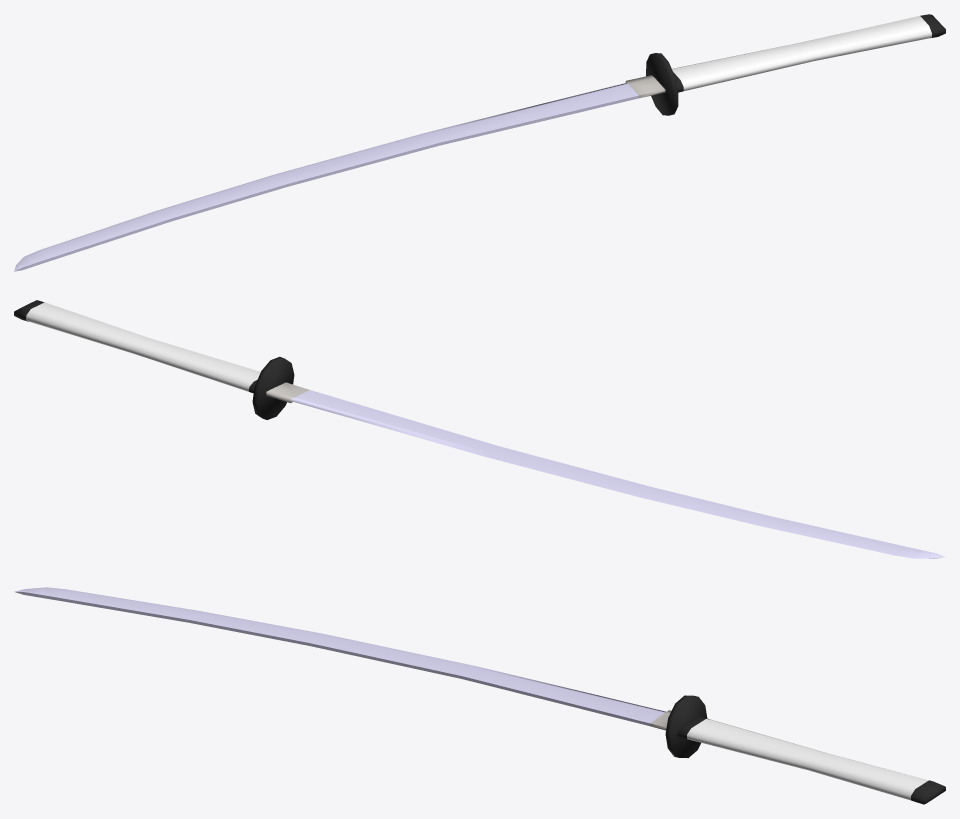
The model's file is katana.glb.
3 views of the same model, one above another, from view 1: azimuth 30°, elevation 25°; view 2: azimuth 150°, elevation 25°; view 3: azimuth 330°, elevation 25° (orthographic).
Parts seen in each view (by area): view 1: katana, guard; view 2: katana, guard; view 3: katana, guard.
Part boxes in pixels (x1,y1,x2,y2): katana: (14,14,945,271); guard: (646,53,678,115); katana: (14,300,945,558); guard: (252,356,294,419); katana: (14,587,945,804); guard: (665,695,707,757).
Size of the model in its own units: 4.4 by 0.2659 by 0.3175.
